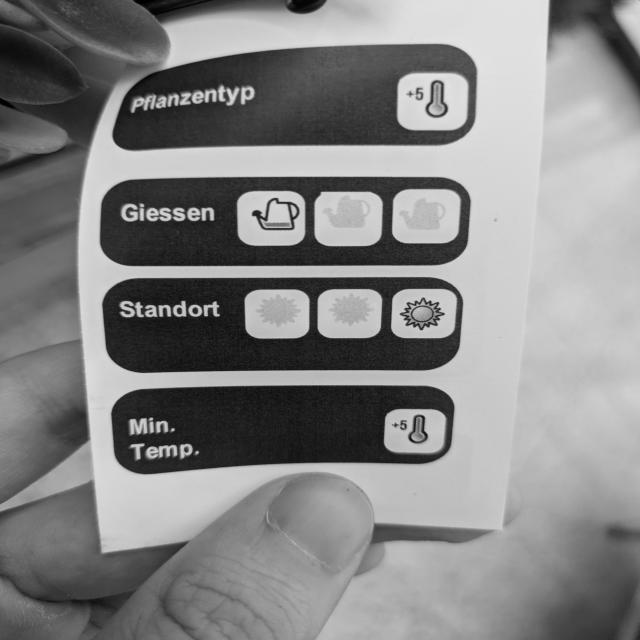sonnig: (394, 292, 452, 338)
wenig giesen: (247, 188, 304, 242)
